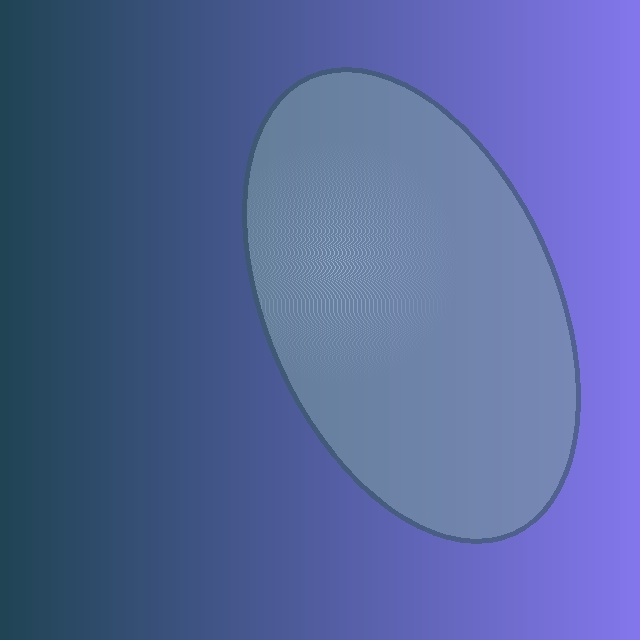lens: (245, 69, 577, 541)
